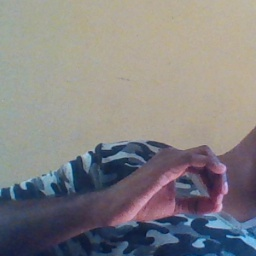O: (109, 140, 237, 233)
